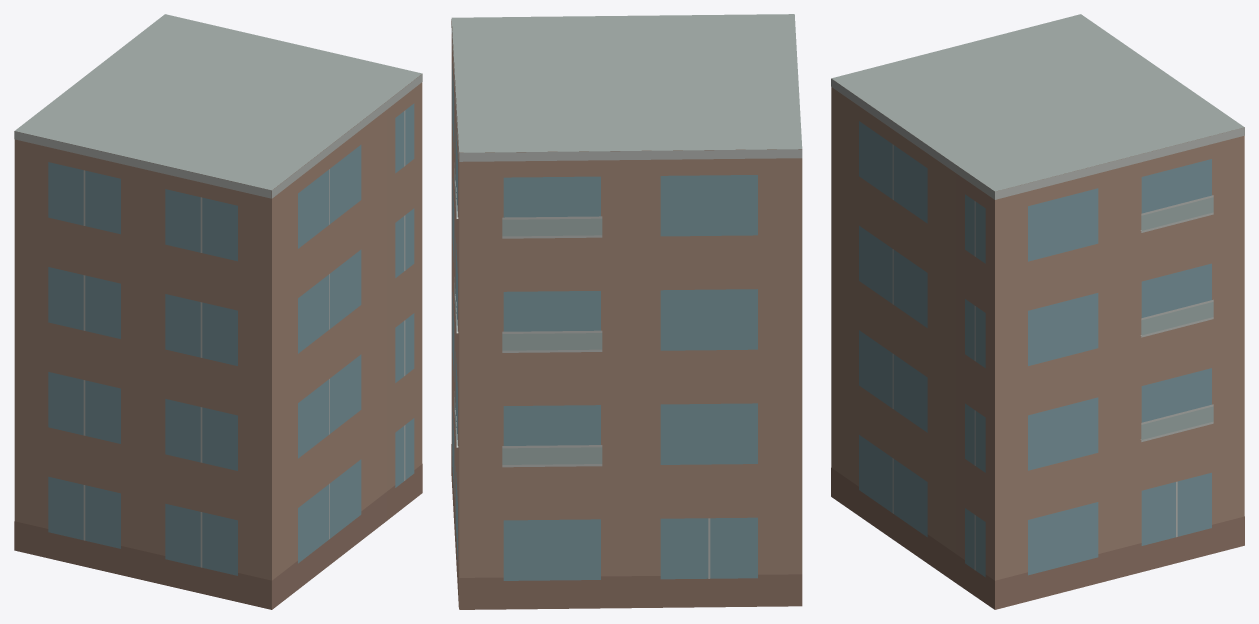
Rendered from residential-7ddf2932-7dfc-41cd-9a4d-913af07ef05c.glb.
3 renders of one model, left to right at view 1: azimuth 30°, elevation 25°; view 2: azimuth 150°, elevation 25°; view 3: azimuth 270°, elevation 25°, orthographic. The views are drawn at different scales.
Visible parts, largest first — view 1: residential-7ddf2932-7dfc-41cd-9a4d-913af07ef05c.tmp; view 2: residential-7ddf2932-7dfc-41cd-9a4d-913af07ef05c.tmp; view 3: residential-7ddf2932-7dfc-41cd-9a4d-913af07ef05c.tmp.
Part boxes in pixels (x1,y1,x2,y2): residential-7ddf2932-7dfc-41cd-9a4d-913af07ef05c.tmp: (14, 14, 422, 609); residential-7ddf2932-7dfc-41cd-9a4d-913af07ef05c.tmp: (451, 14, 802, 609); residential-7ddf2932-7dfc-41cd-9a4d-913af07ef05c.tmp: (831, 14, 1244, 609).
Bounding box in the file's own units: 11.11 × 12.2 × 10.94.
